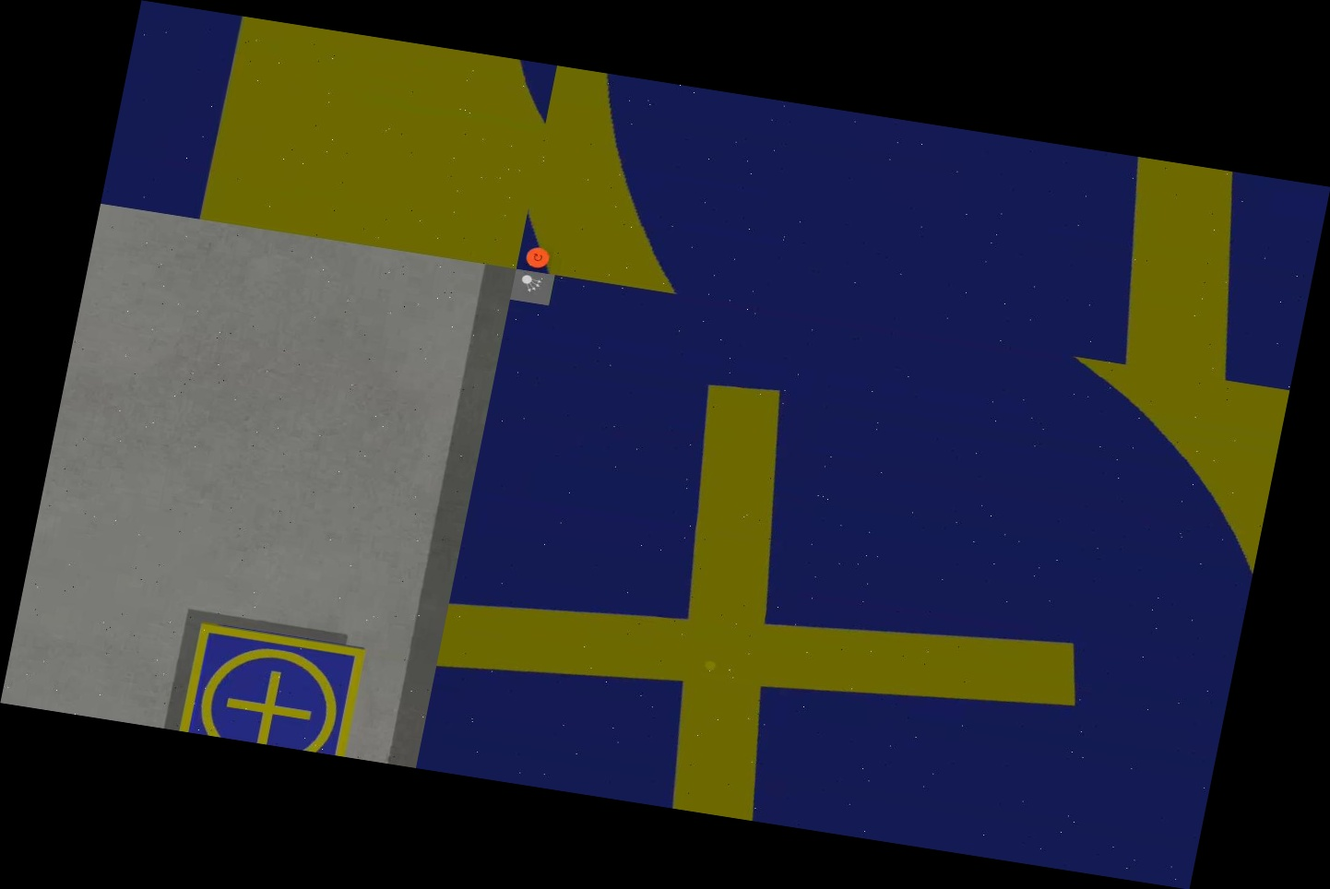large_base: (416, 269, 1288, 889), (101, 0, 557, 269)
small_base: (516, 65, 1330, 390), (177, 621, 365, 756)
